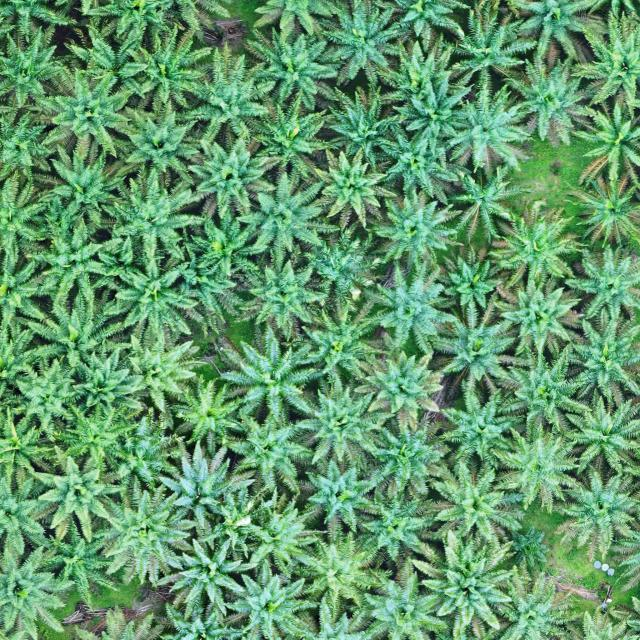Tree: (92, 474, 202, 590), (408, 529, 513, 640), (352, 256, 462, 361), (235, 166, 342, 271), (98, 160, 208, 262), (218, 323, 322, 427), (180, 38, 278, 147), (32, 140, 133, 245), (156, 437, 257, 541), (294, 372, 398, 468), (482, 198, 590, 290), (492, 342, 594, 439), (240, 21, 344, 115), (502, 50, 600, 148), (31, 443, 128, 542), (423, 458, 527, 550), (230, 246, 331, 340), (289, 526, 393, 617), (36, 64, 135, 158), (20, 215, 123, 304), (484, 276, 583, 368), (444, 79, 534, 179), (488, 421, 583, 514), (440, 6, 540, 93), (183, 130, 277, 222), (247, 87, 342, 178), (370, 187, 468, 274), (316, 1, 414, 88), (222, 407, 316, 497), (481, 557, 582, 640), (124, 18, 213, 112), (555, 465, 640, 563), (24, 289, 124, 372), (350, 346, 444, 434), (220, 558, 320, 640), (293, 298, 392, 380), (433, 296, 521, 387), (112, 98, 203, 186), (568, 8, 640, 118), (156, 534, 248, 620), (303, 218, 387, 311), (564, 308, 640, 410), (108, 256, 200, 340), (360, 416, 453, 498), (321, 80, 401, 175), (362, 553, 449, 640), (313, 146, 399, 234), (240, 488, 322, 580), (0, 543, 77, 640), (556, 394, 640, 482), (375, 119, 459, 207), (166, 368, 250, 456), (446, 160, 533, 244), (122, 331, 210, 414), (436, 378, 512, 474), (60, 23, 152, 101), (38, 520, 123, 604), (566, 95, 640, 191), (388, 74, 476, 154), (8, 353, 86, 443), (557, 239, 640, 322), (380, 32, 469, 108), (103, 405, 182, 489), (301, 457, 381, 537), (184, 207, 270, 281), (68, 342, 145, 421), (360, 487, 438, 562), (566, 176, 640, 253), (0, 22, 64, 111), (434, 241, 504, 318), (59, 403, 140, 467), (501, 525, 556, 571)
